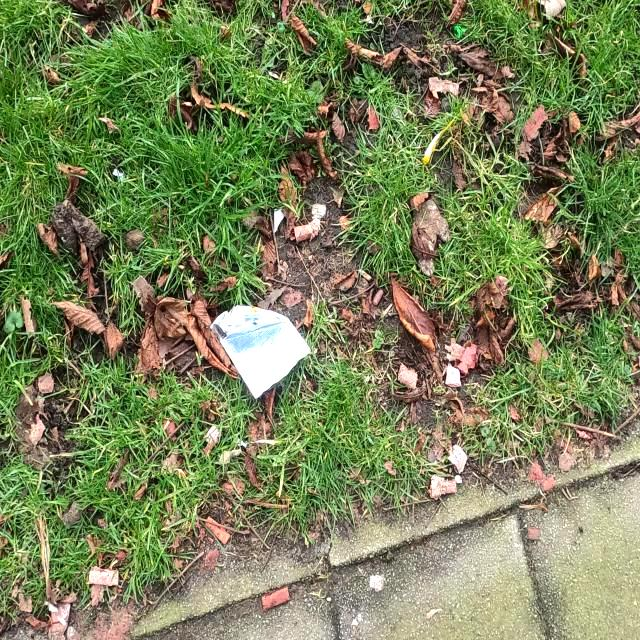Plastic: (209, 304, 311, 400)
